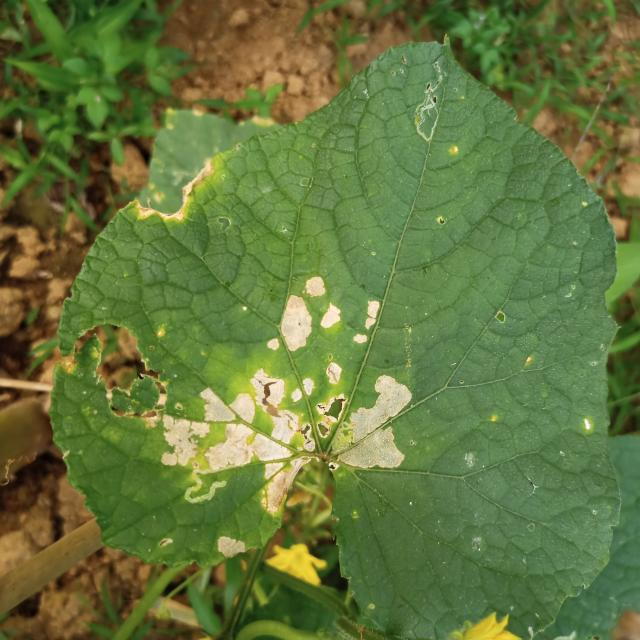disease_cucumber: (163, 269, 421, 515)
